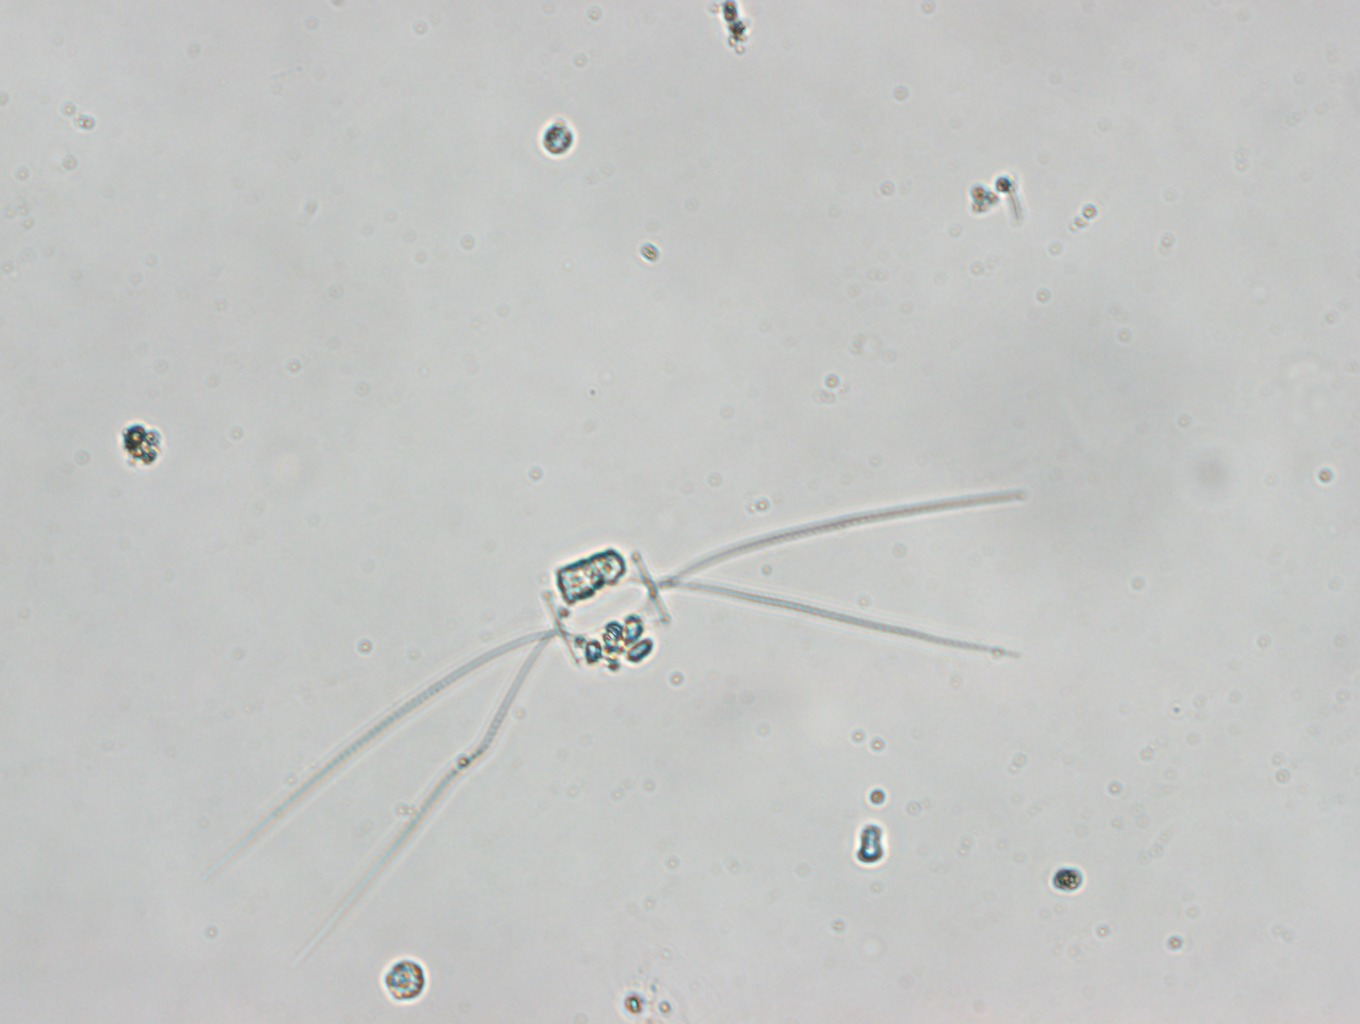chaetoceros: (215, 492, 1027, 945)
